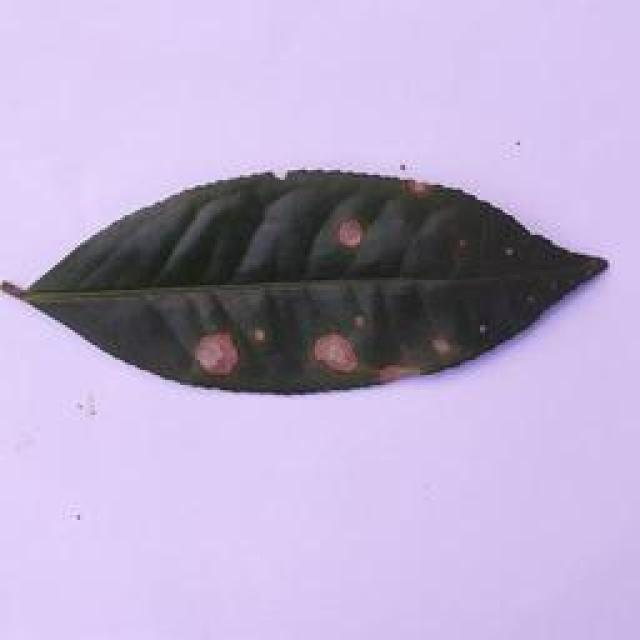Gray Blight: (0, 165, 613, 403)
